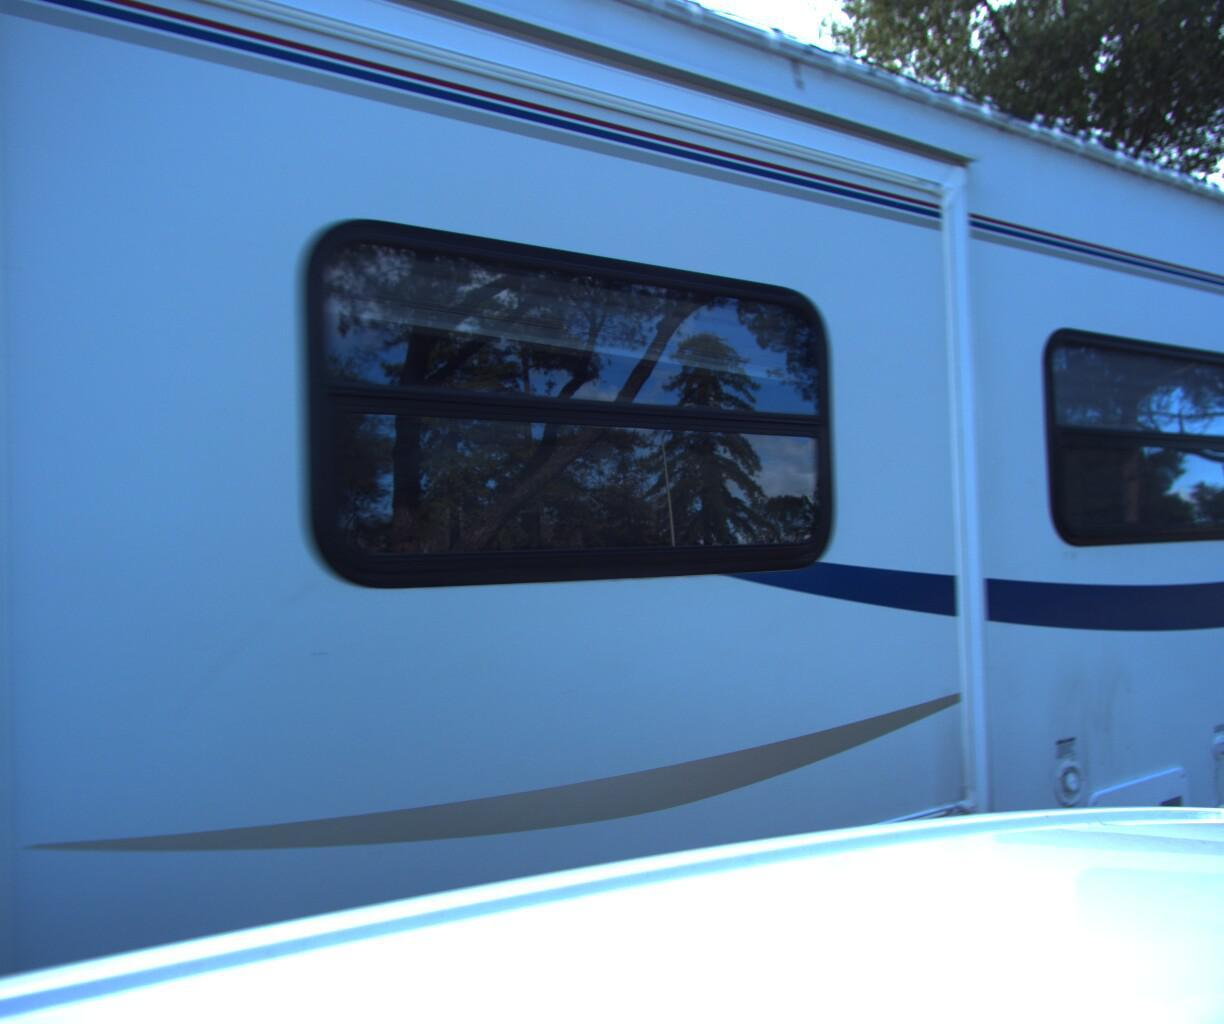car: (1125, 513, 1224, 801)
